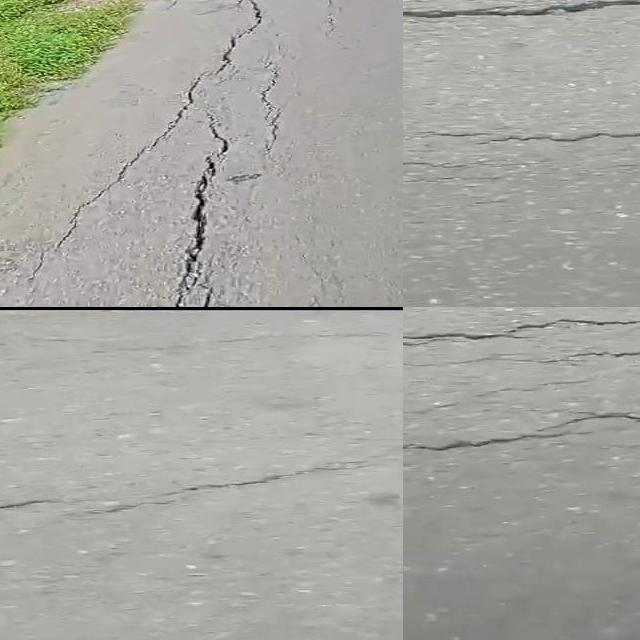Melintang: (0, 436, 403, 530), (403, 307, 640, 380), (403, 393, 640, 465), (403, 0, 640, 35), (452, 118, 640, 161)
Memanjang: (24, 0, 272, 278), (165, 114, 237, 286)
